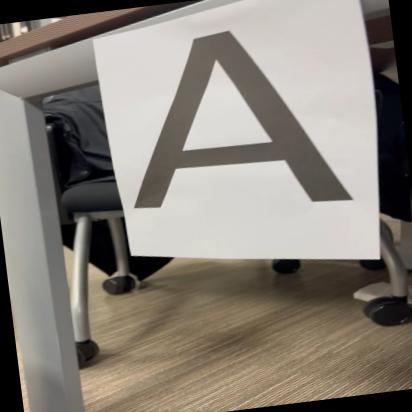seat: (105, 13, 368, 234)
